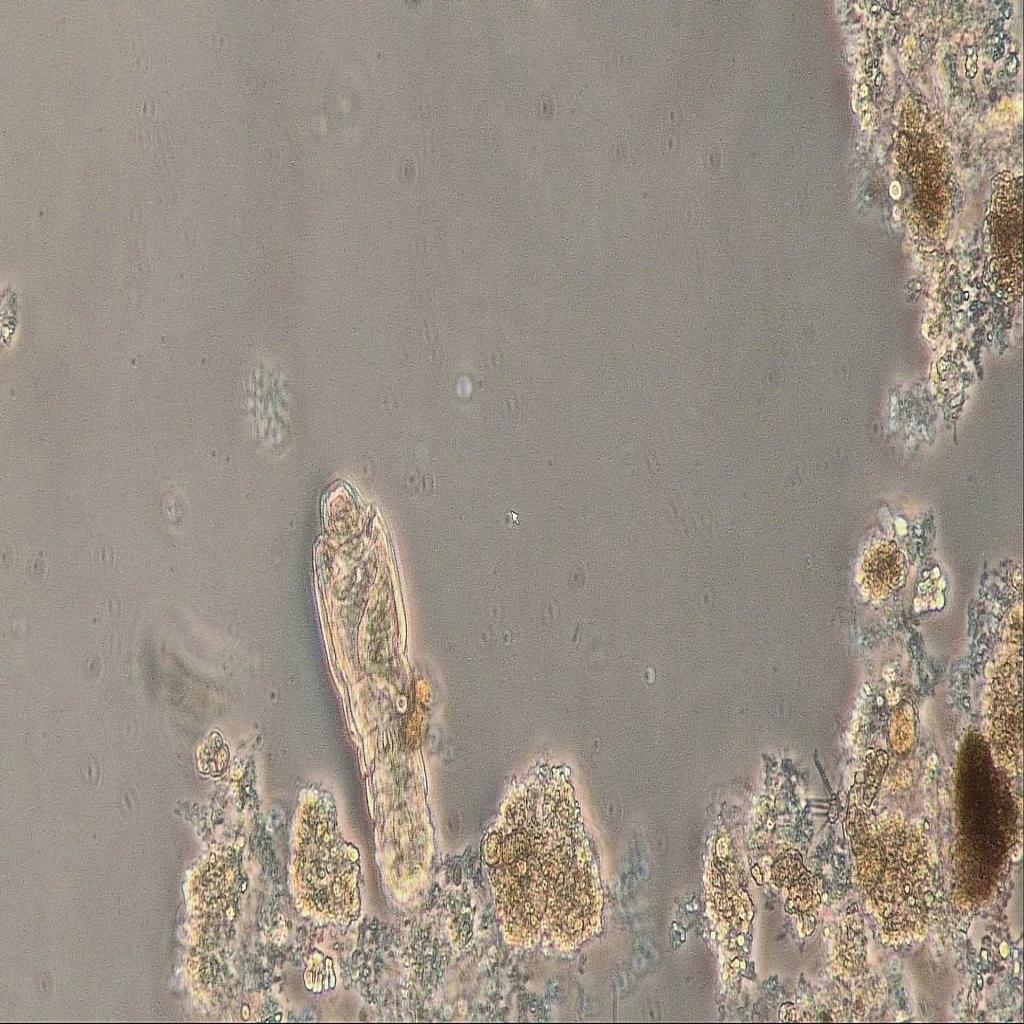Rotatoria: (310, 470, 464, 906)
